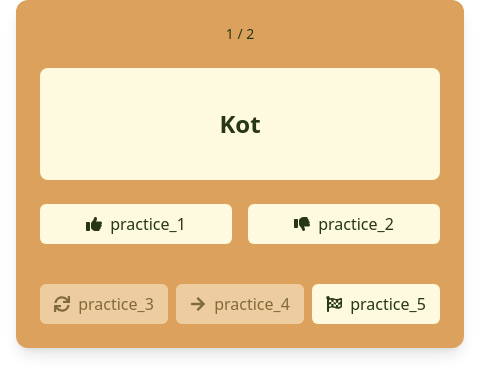
Test: Practice Component › handles correct answer and enables Flip/Next
The image size is (481, 374).
Expected: the text "Kot" is shown, [40,68,440,180]
Click the button with test id "answer-correct". click: click(136, 224)
box: [40,204,232,244]
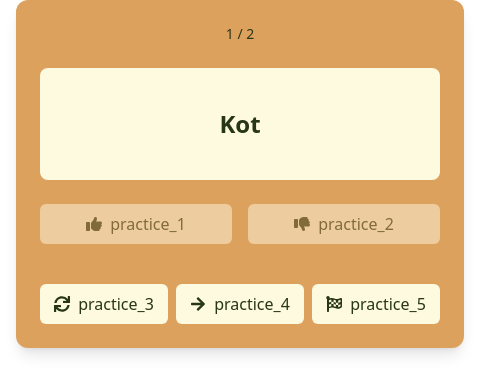
Expected: the button with test id "flip-button" is enabled, [40,284,168,324]
Expected: the button with test id "next-button" is enabled, [176,284,304,324]
